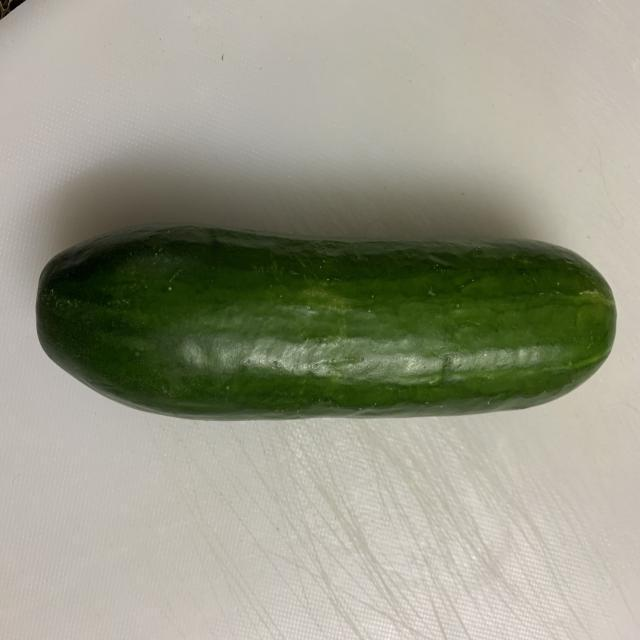Cucumber: (29, 208, 619, 416)
